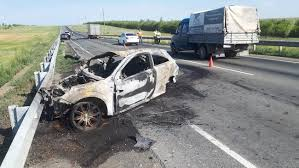car: (45, 36, 194, 125)
